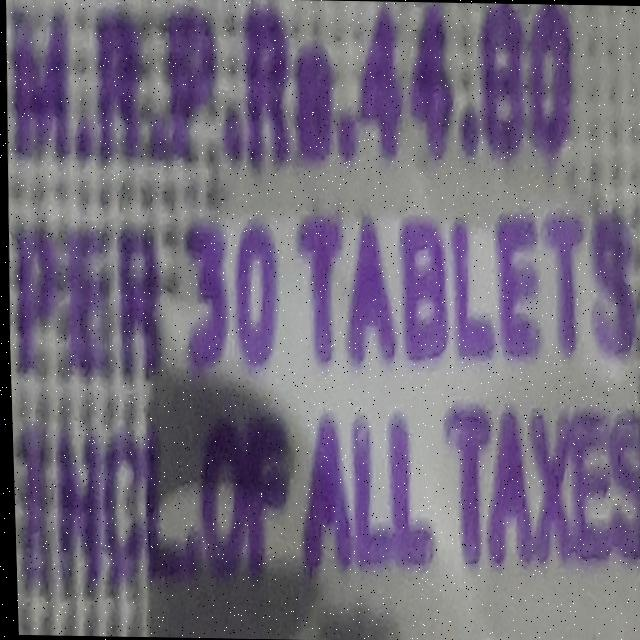sentence: (17, 407, 640, 592), (15, 213, 633, 375), (11, 0, 453, 168), (455, 3, 571, 156)
